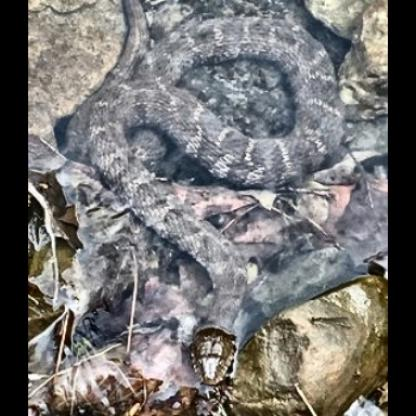Snake: (32, 15, 390, 416), (46, 257, 385, 416)
